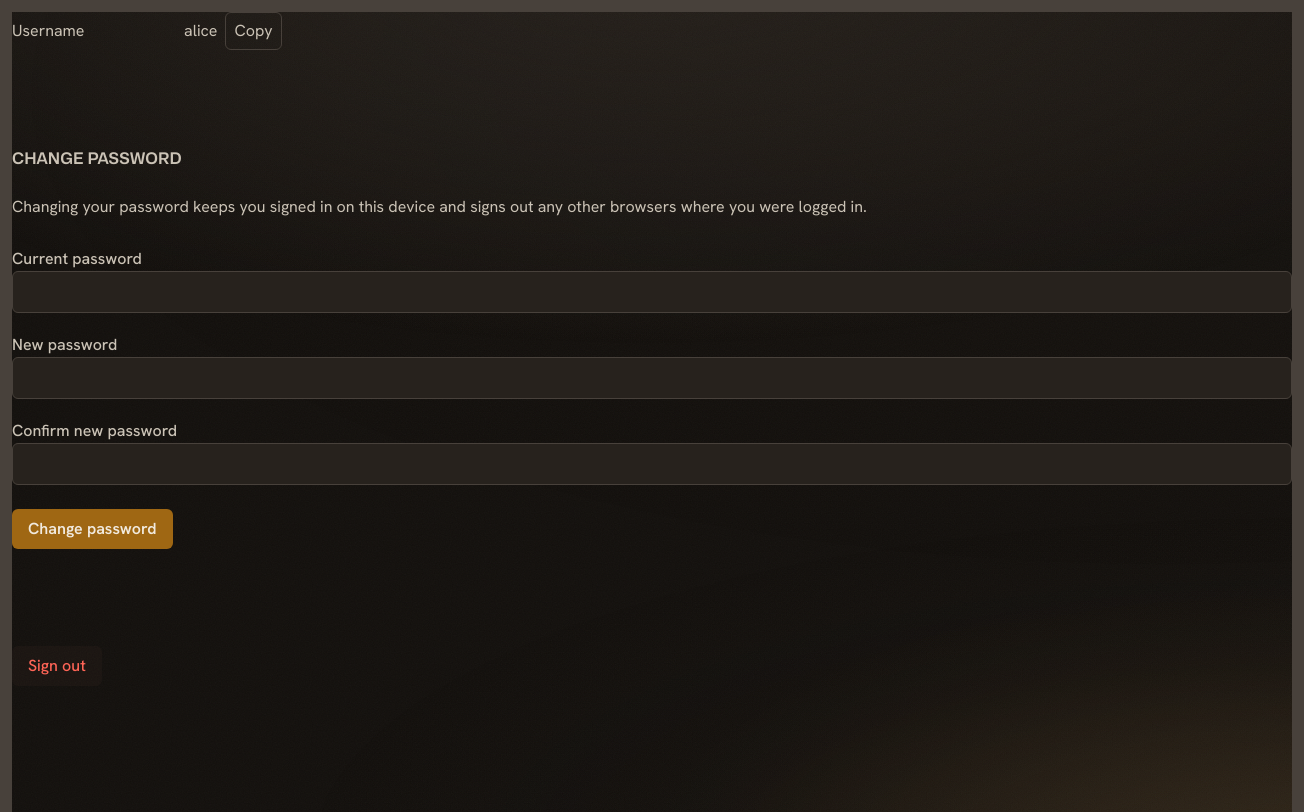
AccountSection › rejects identical new+old passwords without hitting the API
Type "samepw1234" into the password field with test id "account-old-password" at (652, 292), box x1=12 y1=271 x2=1292 y2=313
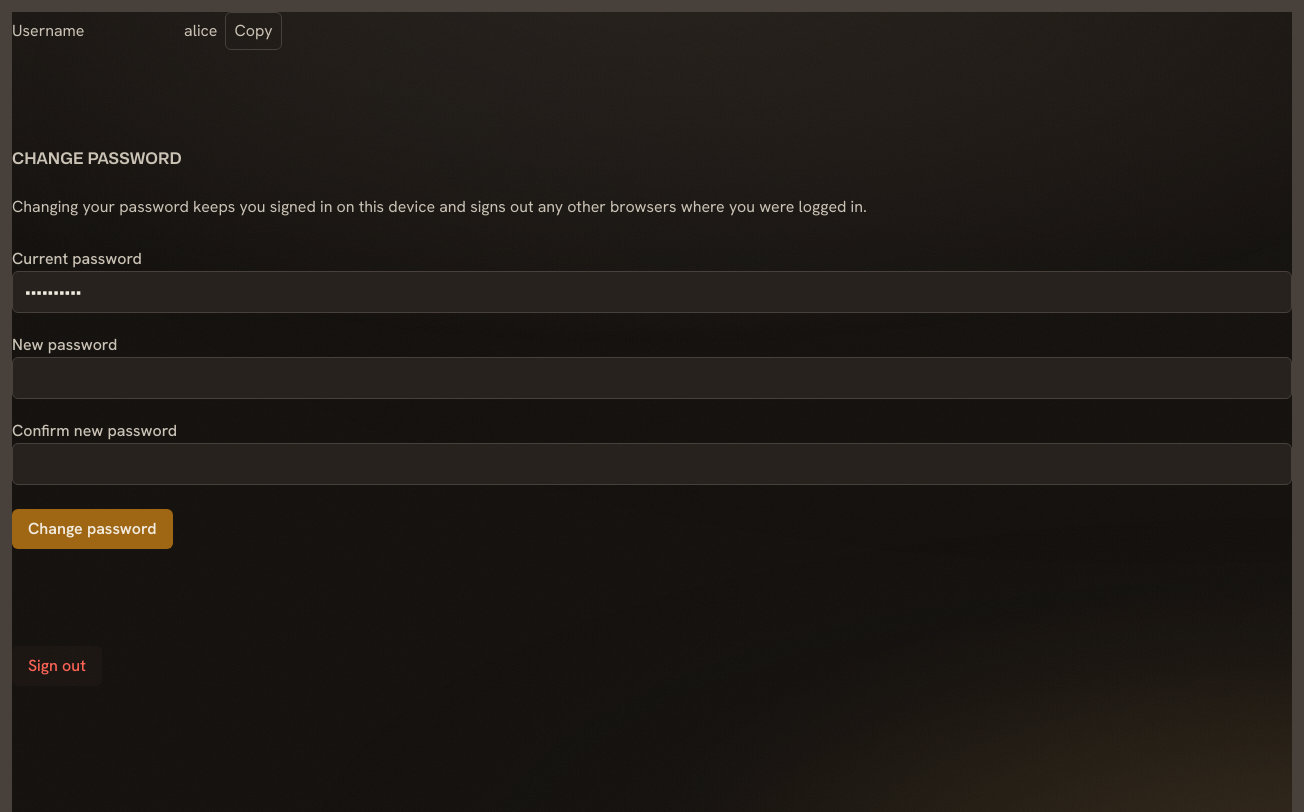
Type "samepw1234" into the password field with test id "account-new-password" at (652, 378), box x1=12 y1=357 x2=1292 y2=399
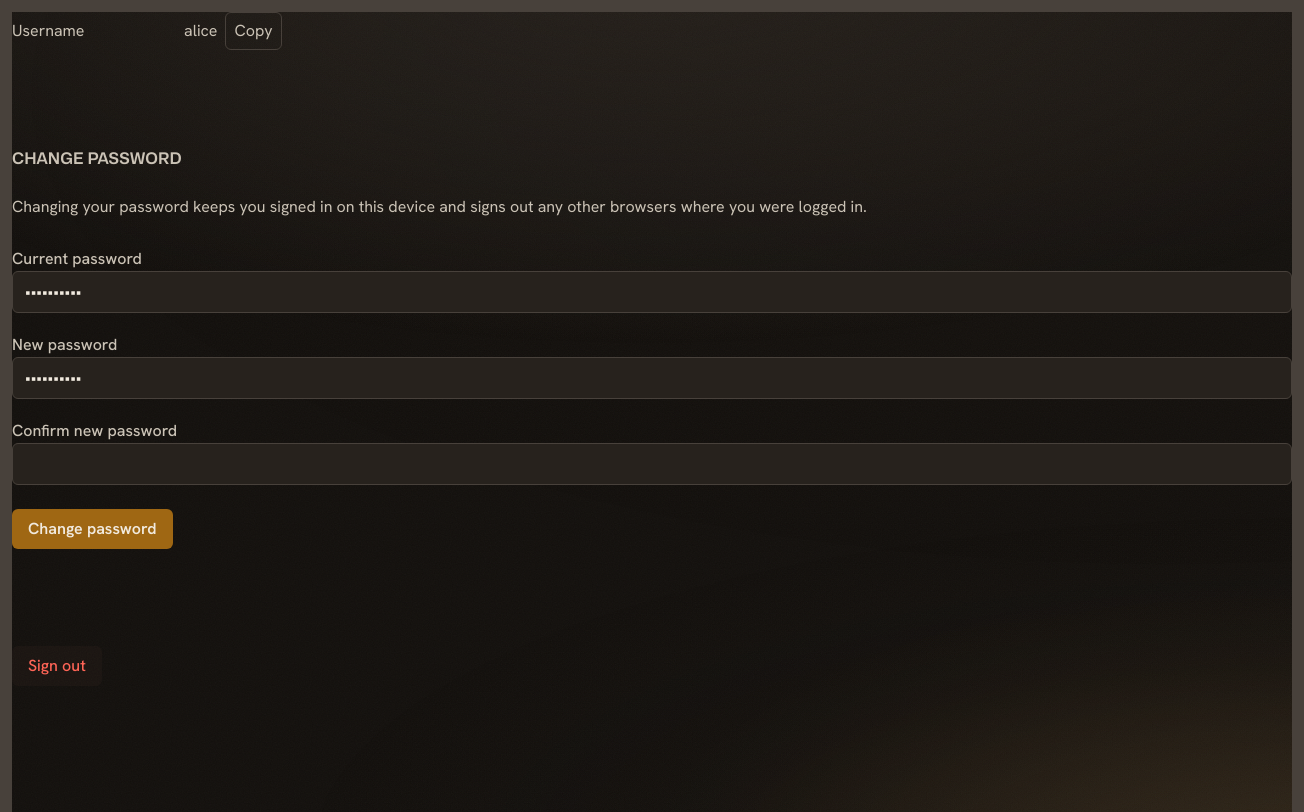
Type "samepw1234" into the password field with test id "account-confirm-password" at (652, 464), box x1=12 y1=443 x2=1292 y2=485
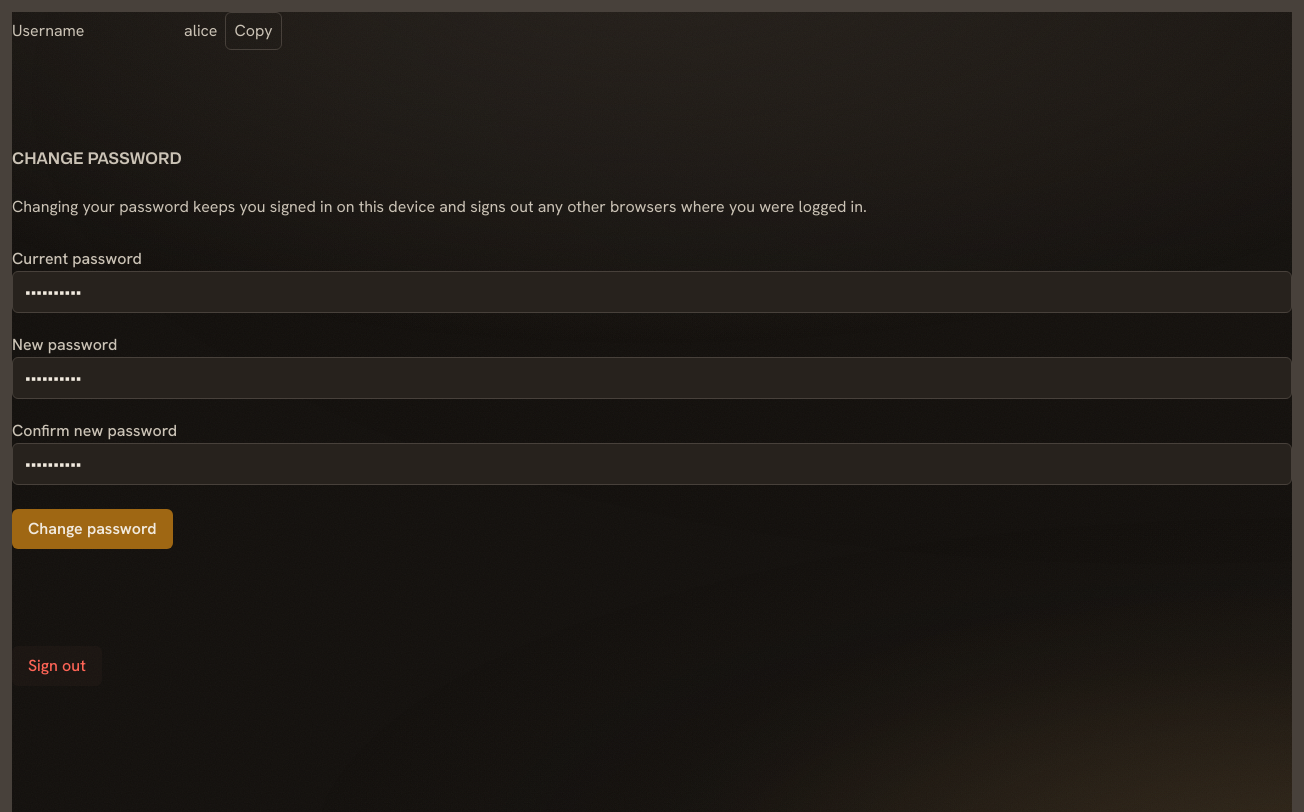
Click the button with test id "account-change-password-submit" at (92, 529), box x1=12 y1=509 x2=173 y2=549
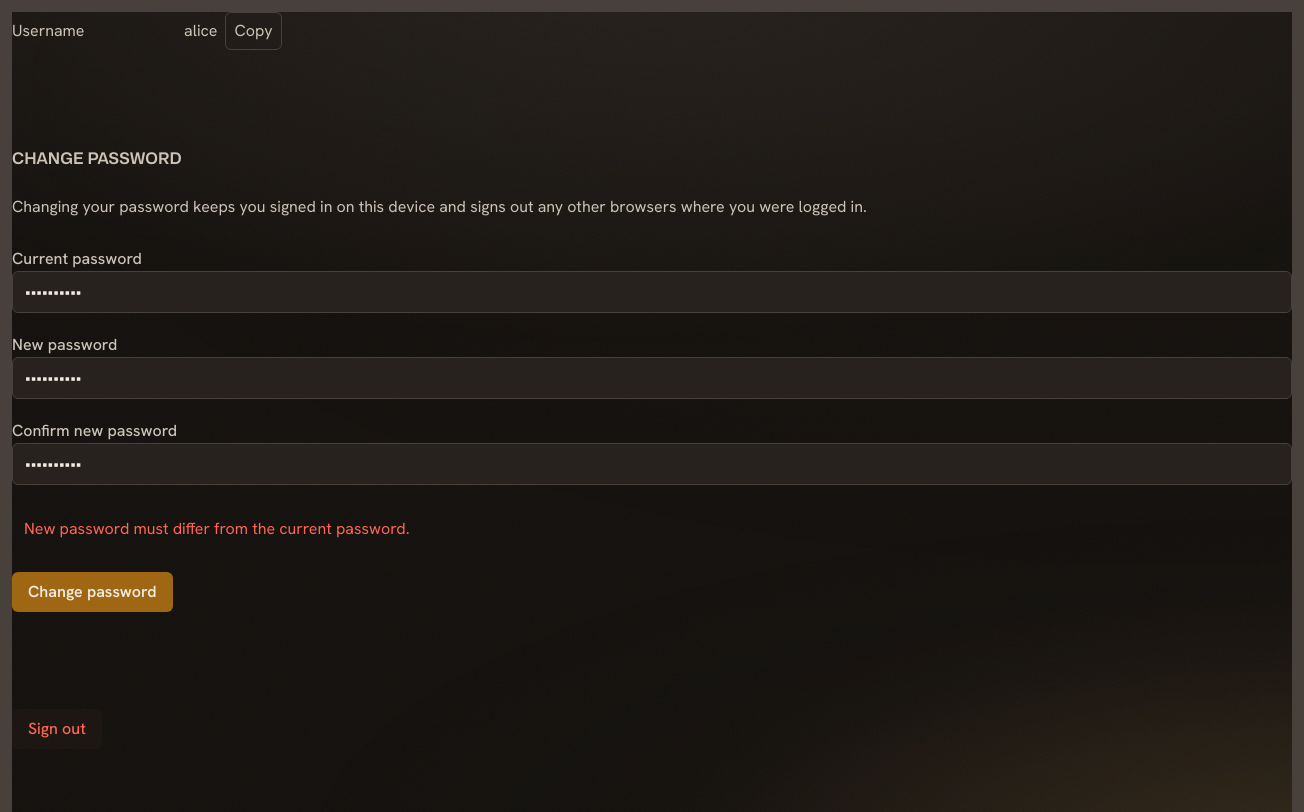
Check: the message with test id "account-pw-error" reads "New password must differ from the current password.", box x1=24 y1=518 x2=410 y2=539
